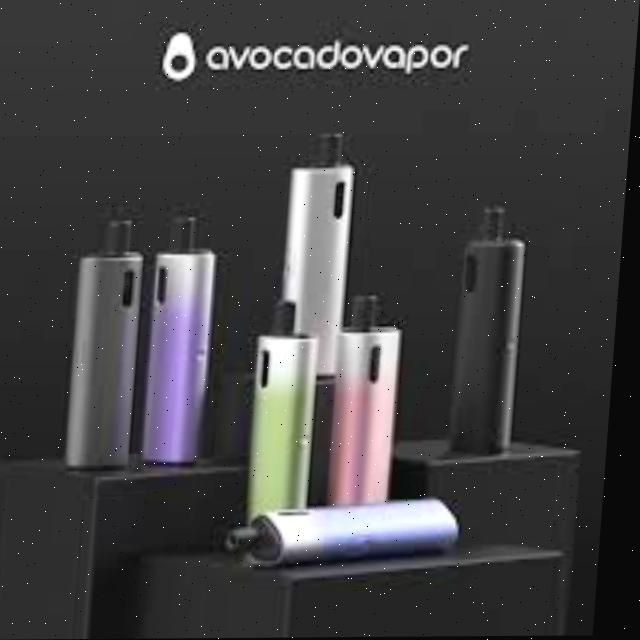vape: (450, 202, 534, 456), (71, 209, 151, 471), (147, 216, 225, 468), (249, 300, 327, 548), (283, 131, 359, 375), (329, 298, 406, 533), (233, 497, 469, 564)
